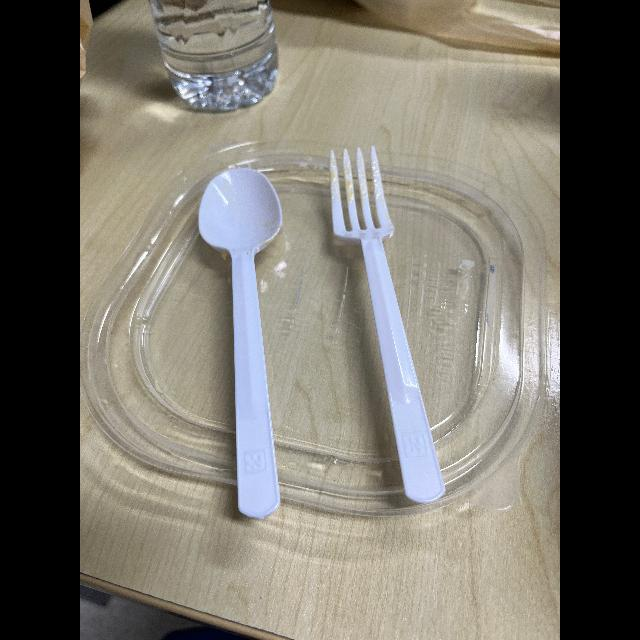plastic_cultery: (317, 140, 453, 516), (192, 159, 316, 525)
